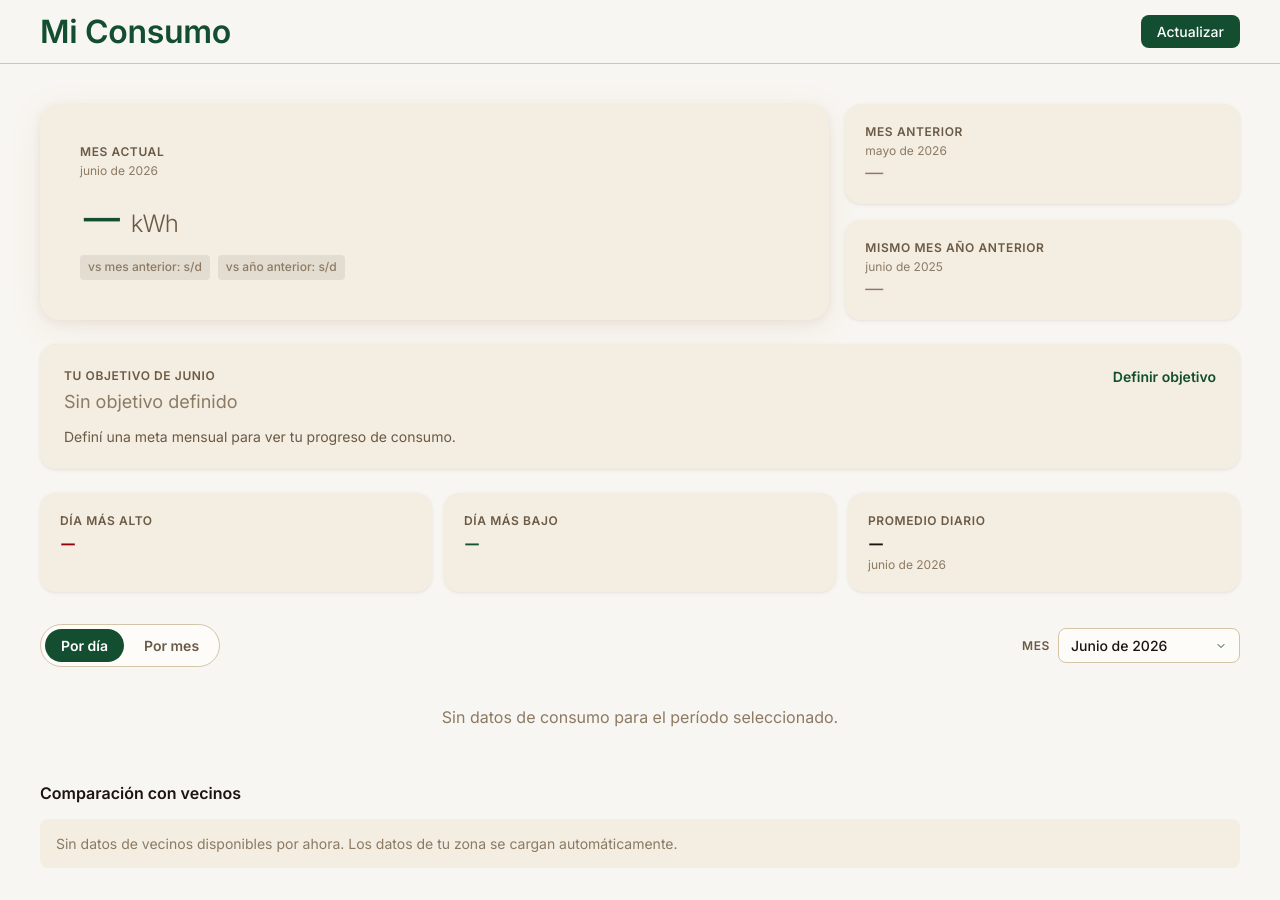
Scenario: ConsumoPage — toggle día / mes del gráfico › muestra la comparación anual con vecinos en modo mes
The image size is (1280, 900).
Click the button "Por mes".
click(172, 646)  # box [128,629,215,662]
(page scrolled)
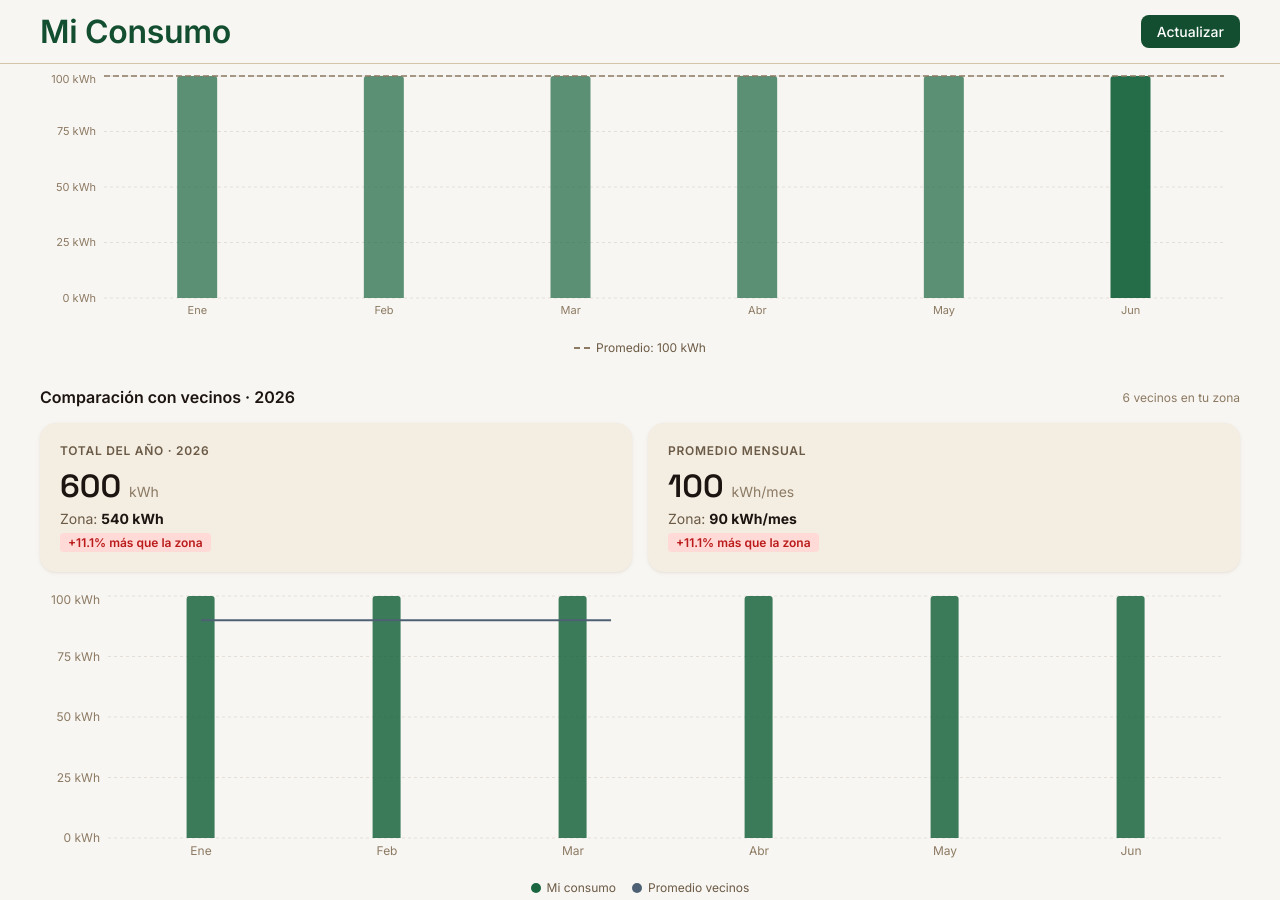
Result: the heading "Comparación con vecinos · 2026" is shown at [40,387,295,407]
Result: the text "Total del año · 2026" is shown at [60,443,209,458]
